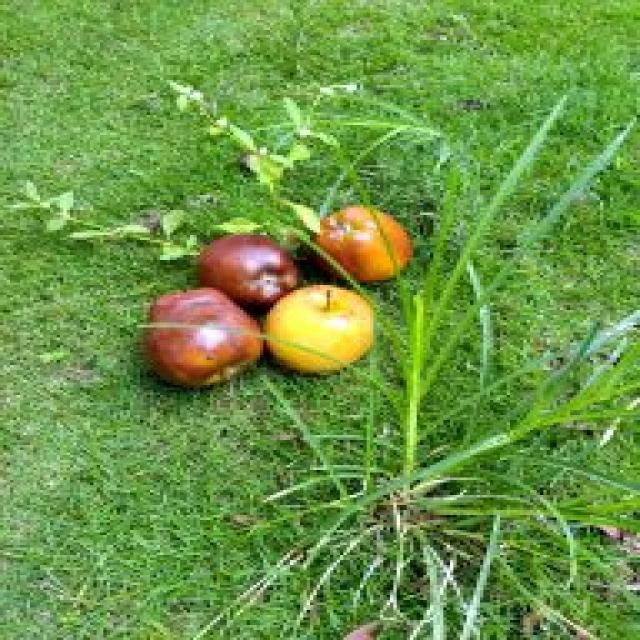Organik: (235, 277, 392, 383), (143, 284, 271, 398), (300, 196, 440, 295), (190, 216, 300, 306)
